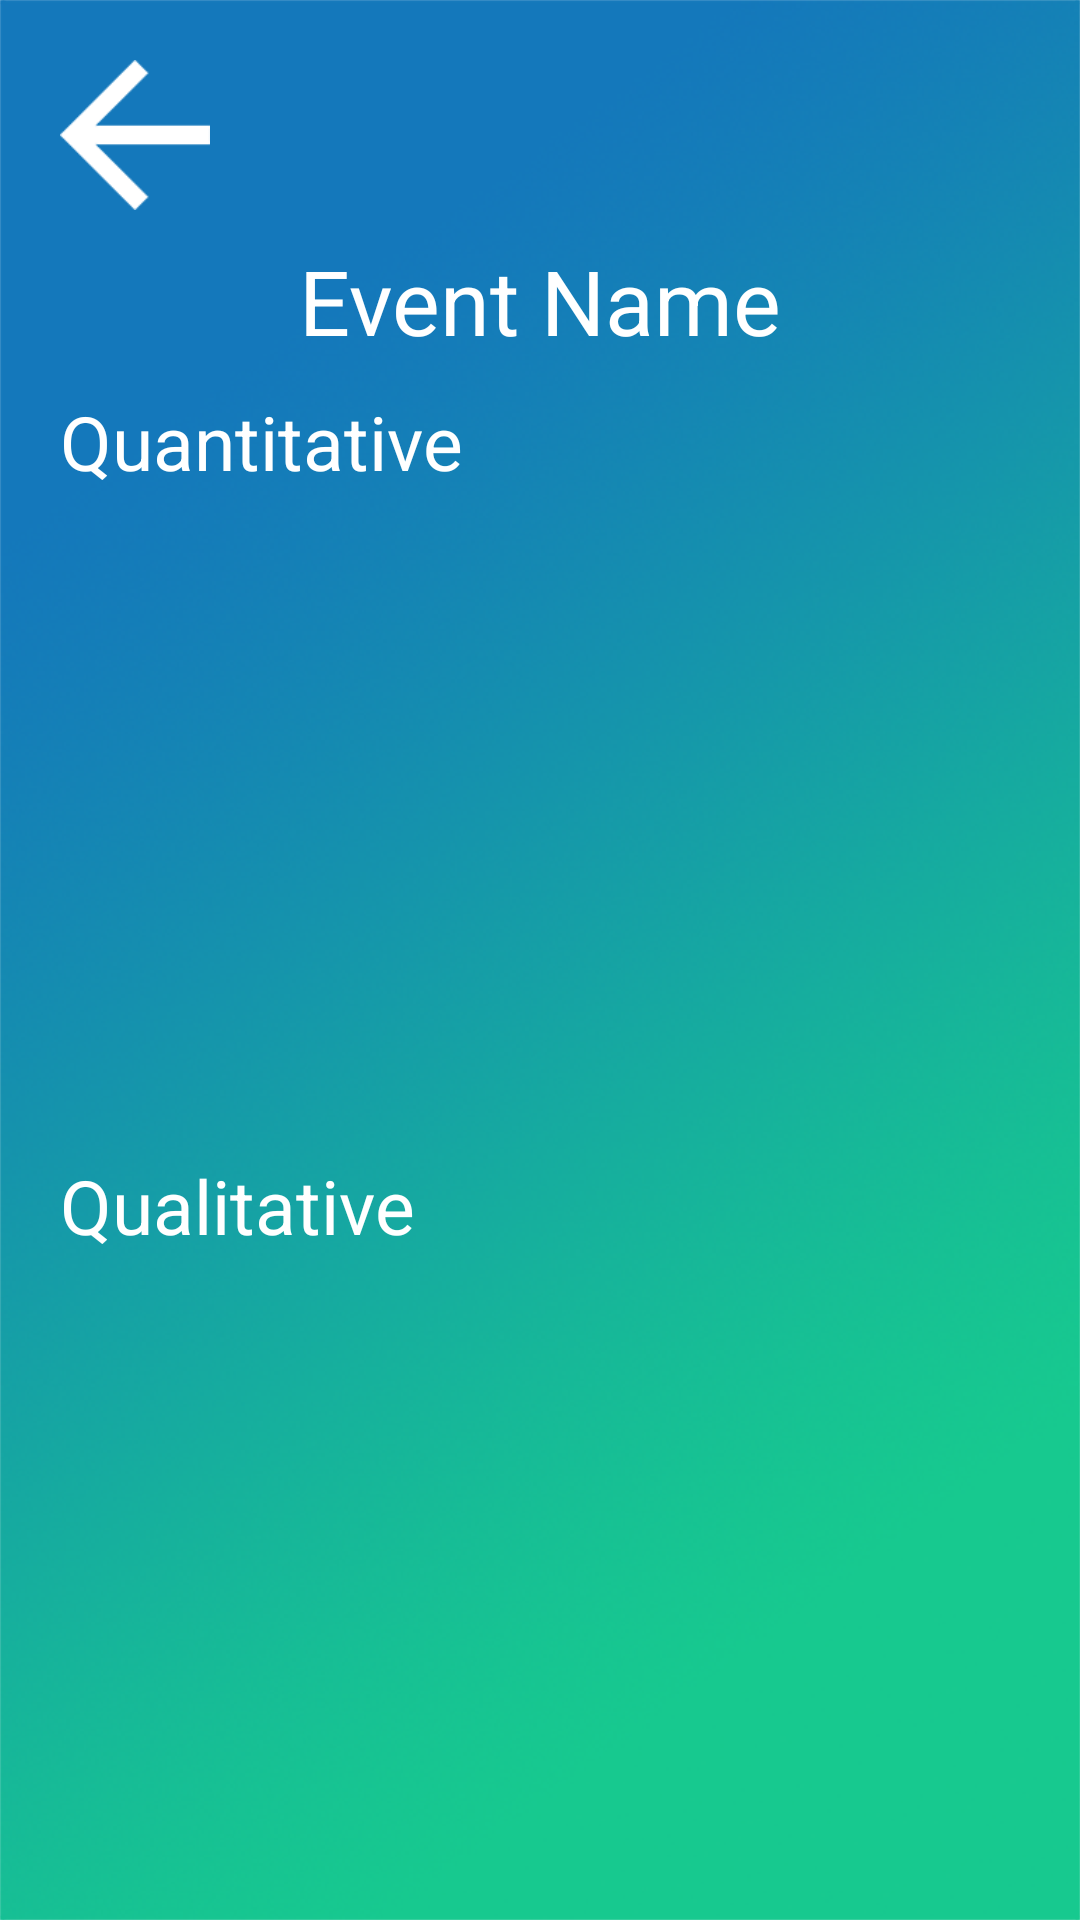

Named icons in this screenshot (1080px x 1920px) and their centers, (x,y):
Go back: (135,135)
